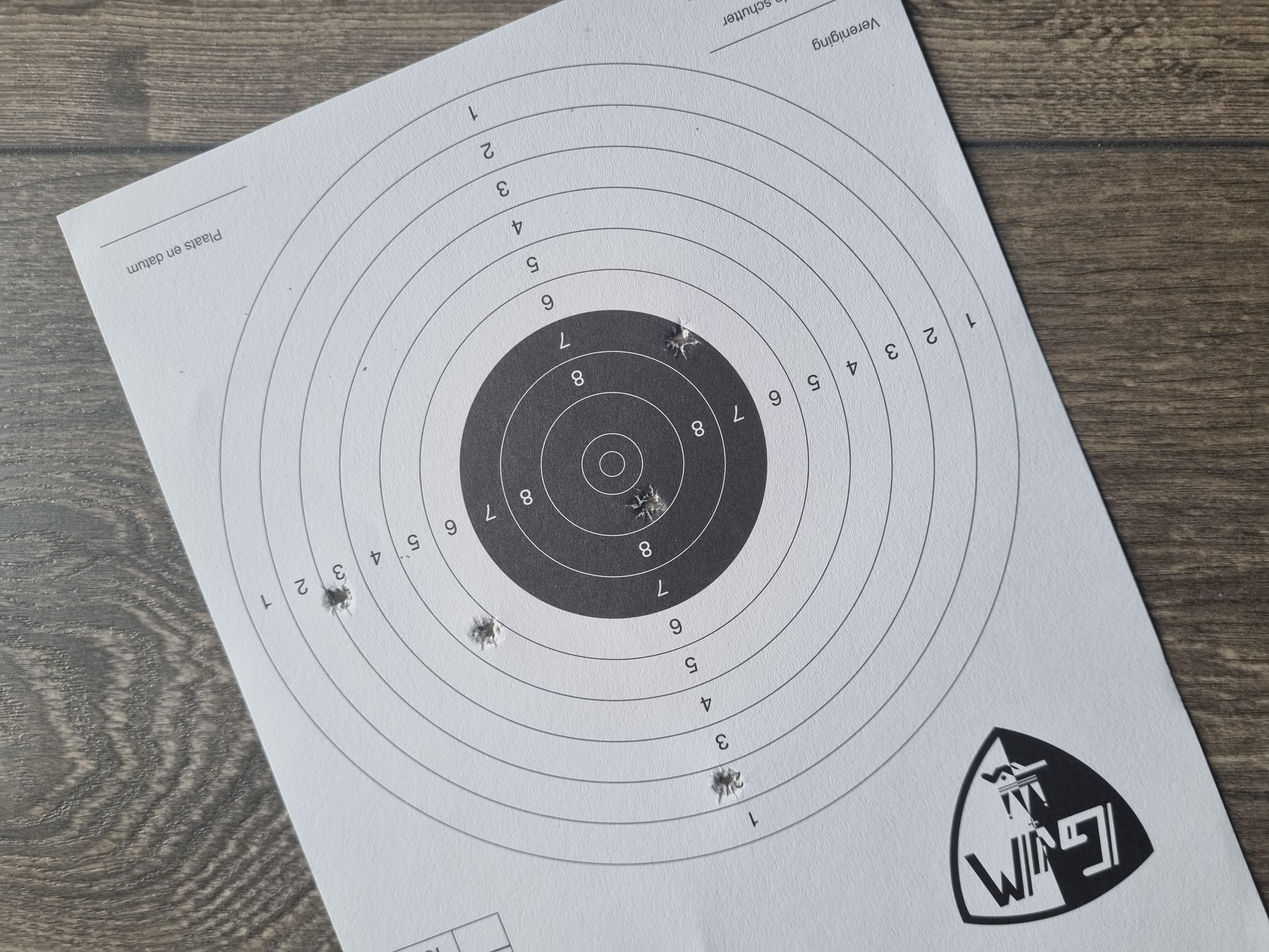hole: (792, 499, 846, 526), (573, 471, 623, 500), (401, 351, 450, 379), (448, 240, 502, 264), (198, 532, 247, 554)
